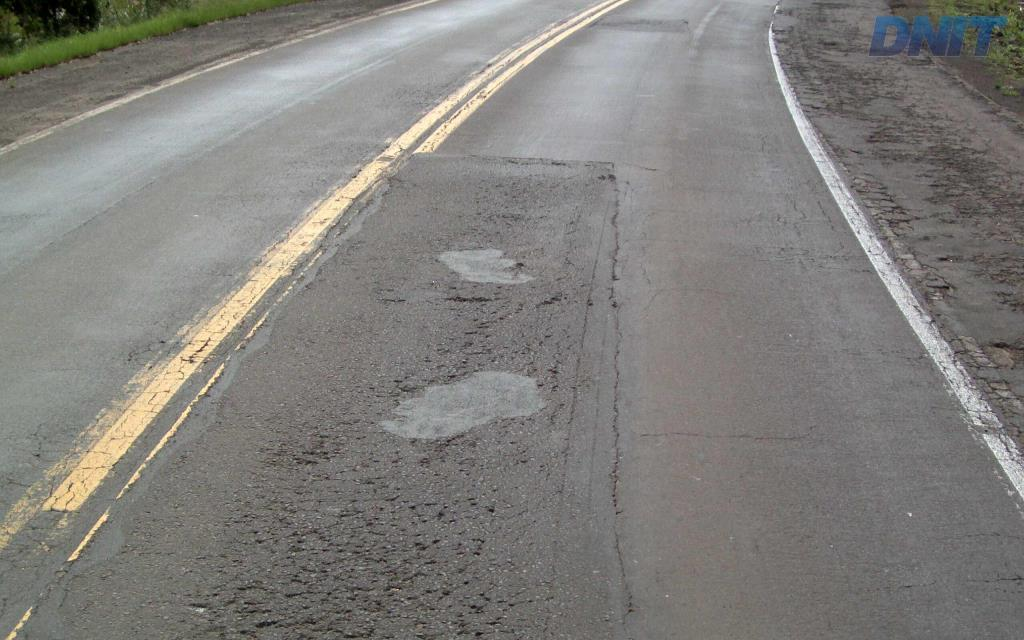crack: (286, 509, 385, 546)
